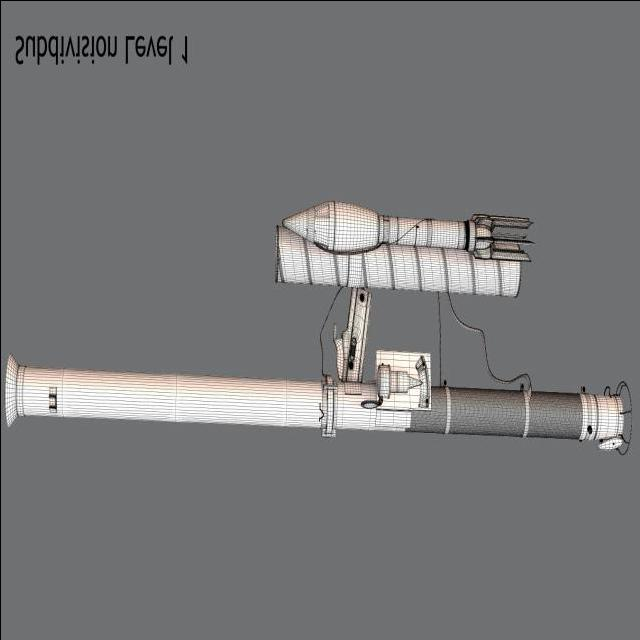rocket launcher: (2, 298, 640, 456)
